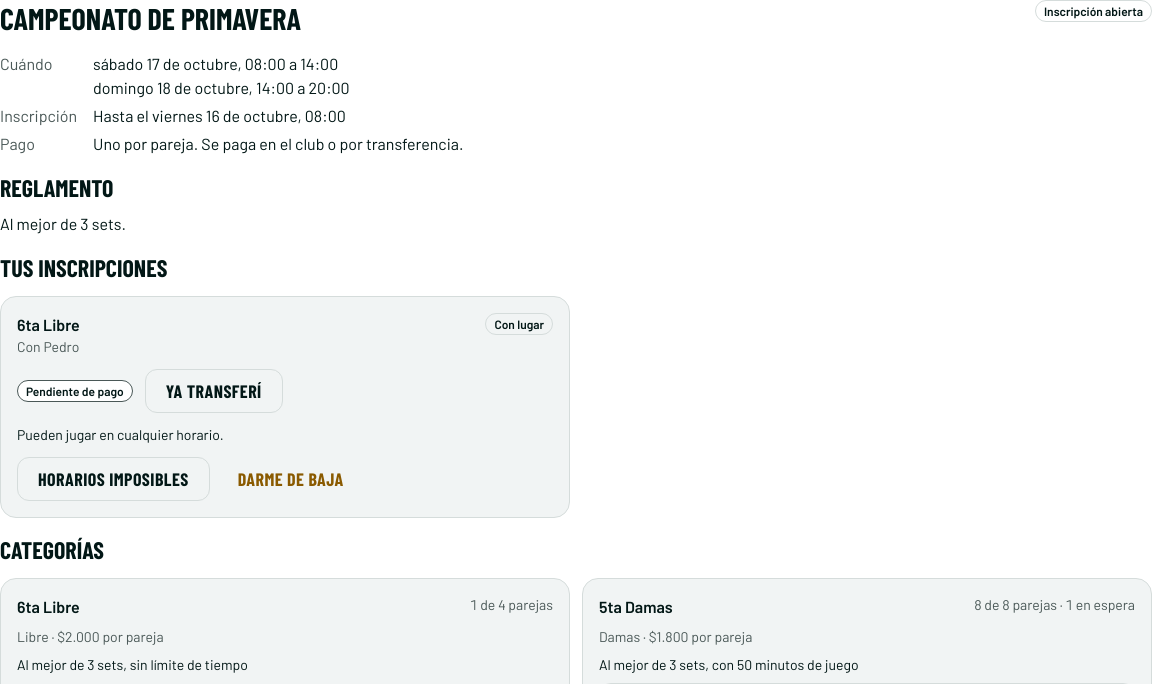
it: ChampionshipBoard › asks before withdrawing and sends the pair
Click the button "Darme de baja". click: (291, 479)
box: [218,457,364,501]
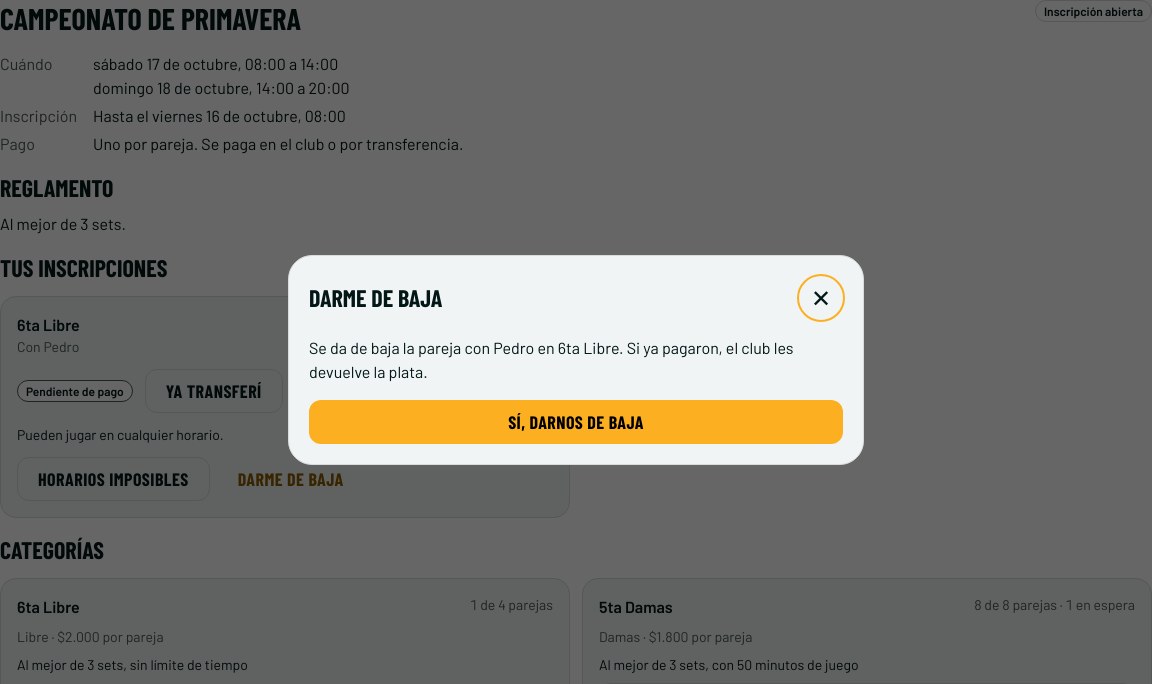
Expected: the dialog "Darme de baja" shows "Se da de baja la pareja con Pedro en 6ta Libre.", [288,255,864,465]
Click the button "Sí, darnos de baja". click: (576, 422)
box: [309,400,843,444]
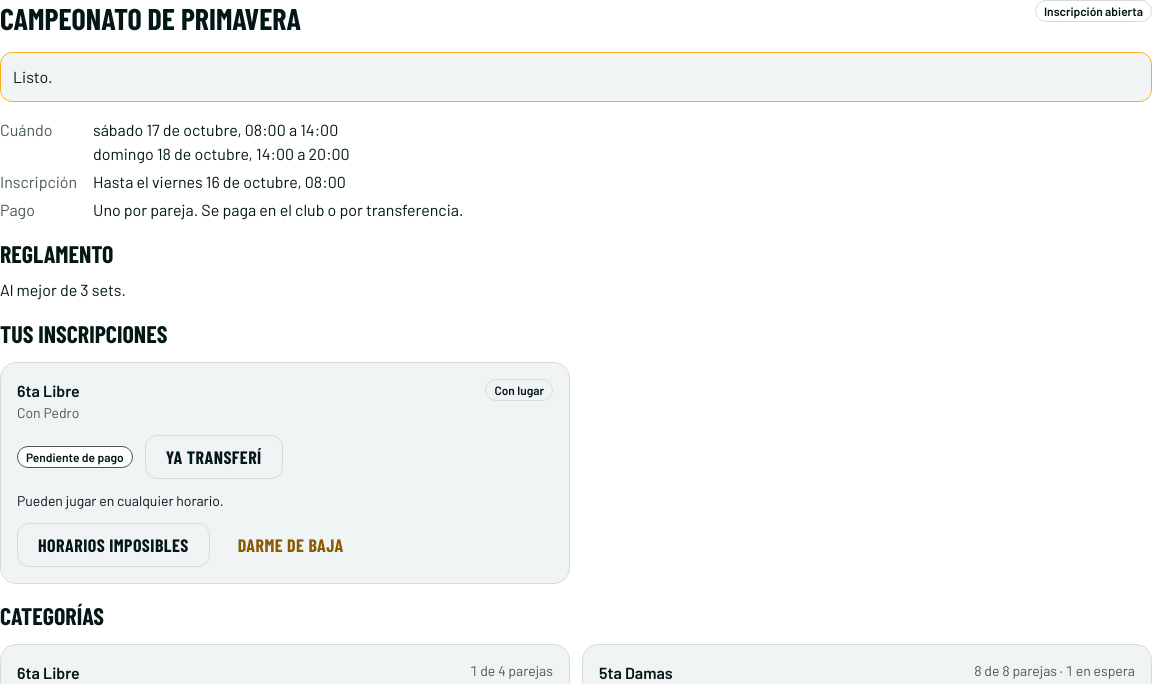
Expected: the message reads "Listo.", [13,67,52,86]
